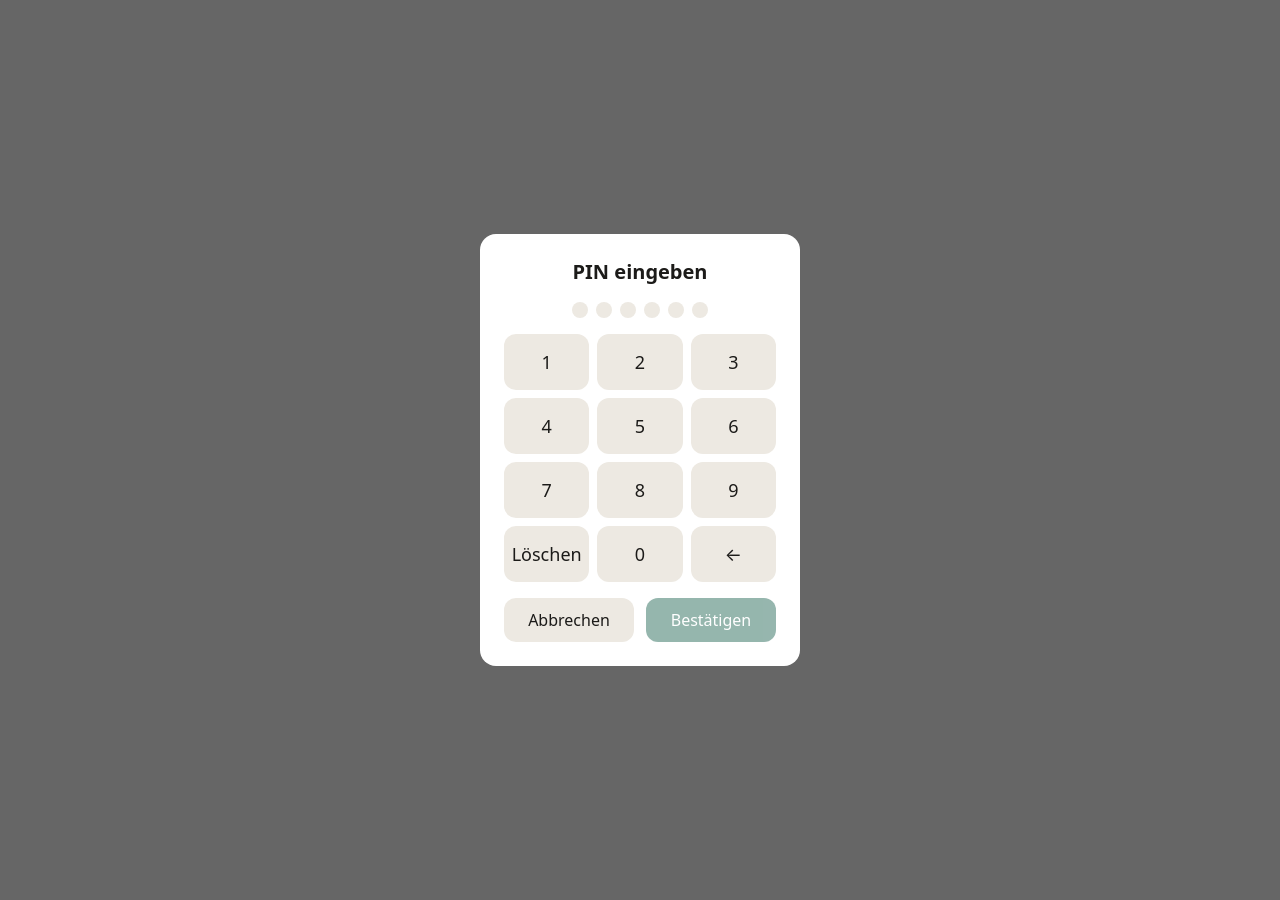
Test: PinInputDialog › clear empties the entry
This screenshot has width=1280, height=900.
Click the button "1" at (547, 362), box [504, 334, 589, 390]
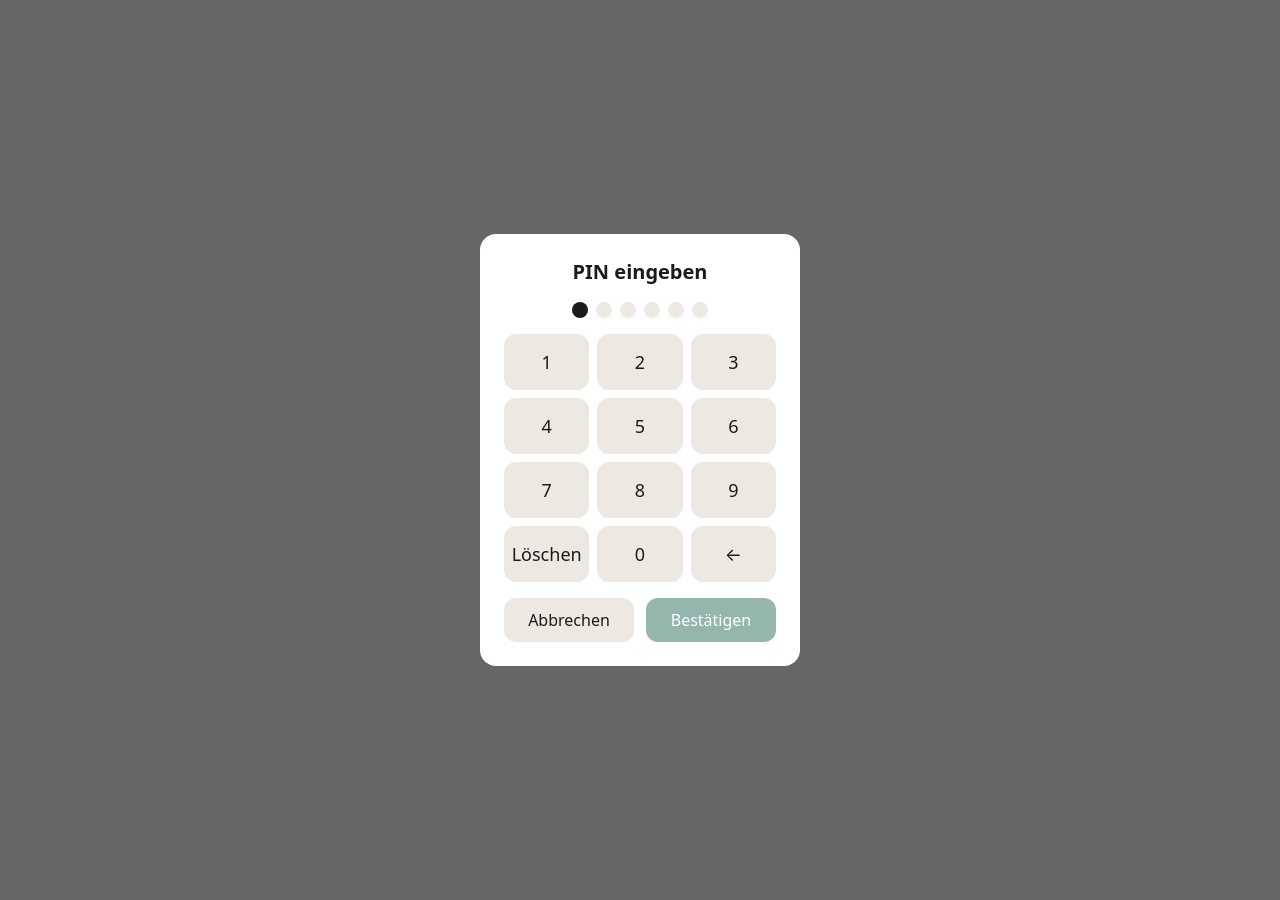
Click the button "2" at (640, 362), box [597, 334, 683, 390]
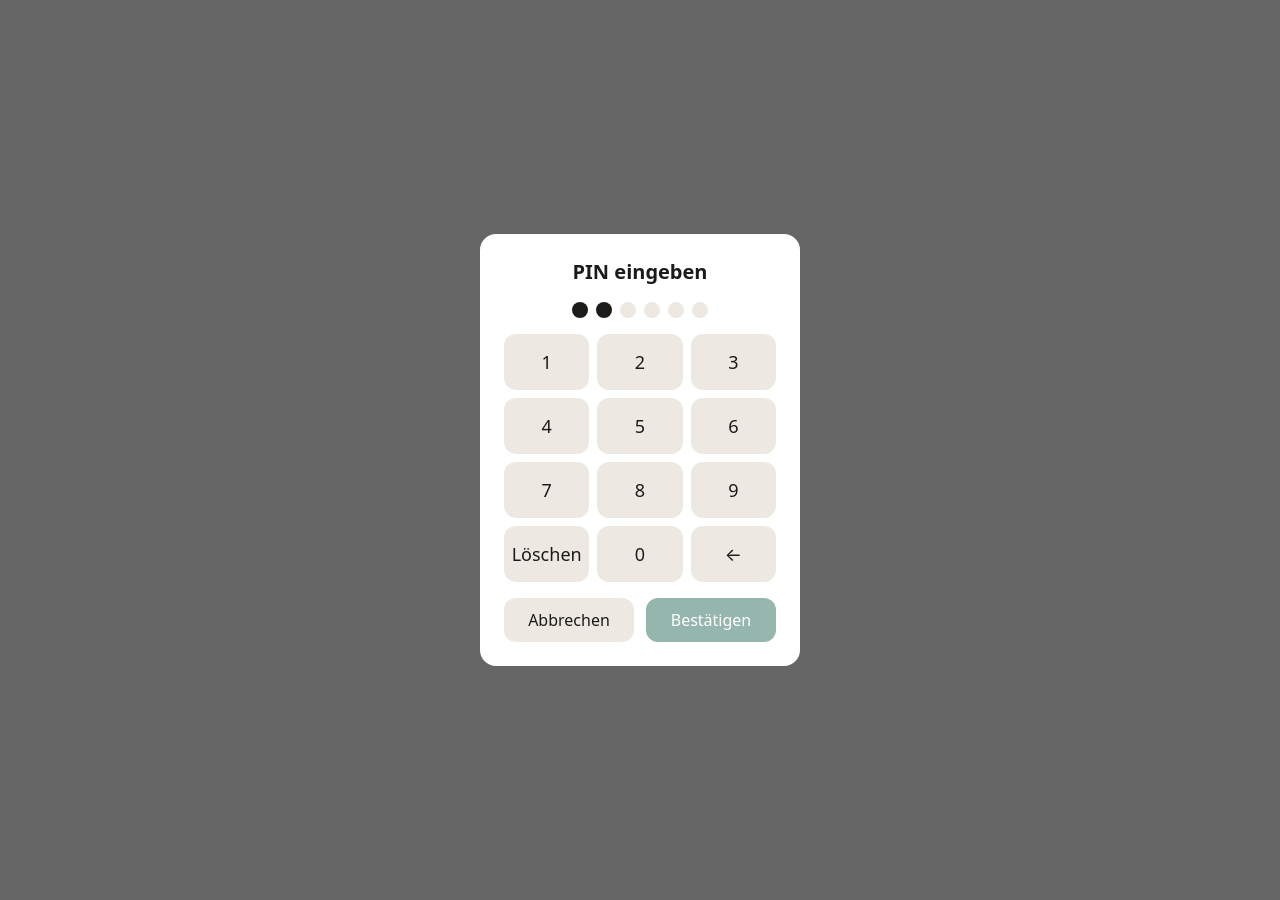
Click the button "3" at (733, 362), box [691, 334, 776, 390]
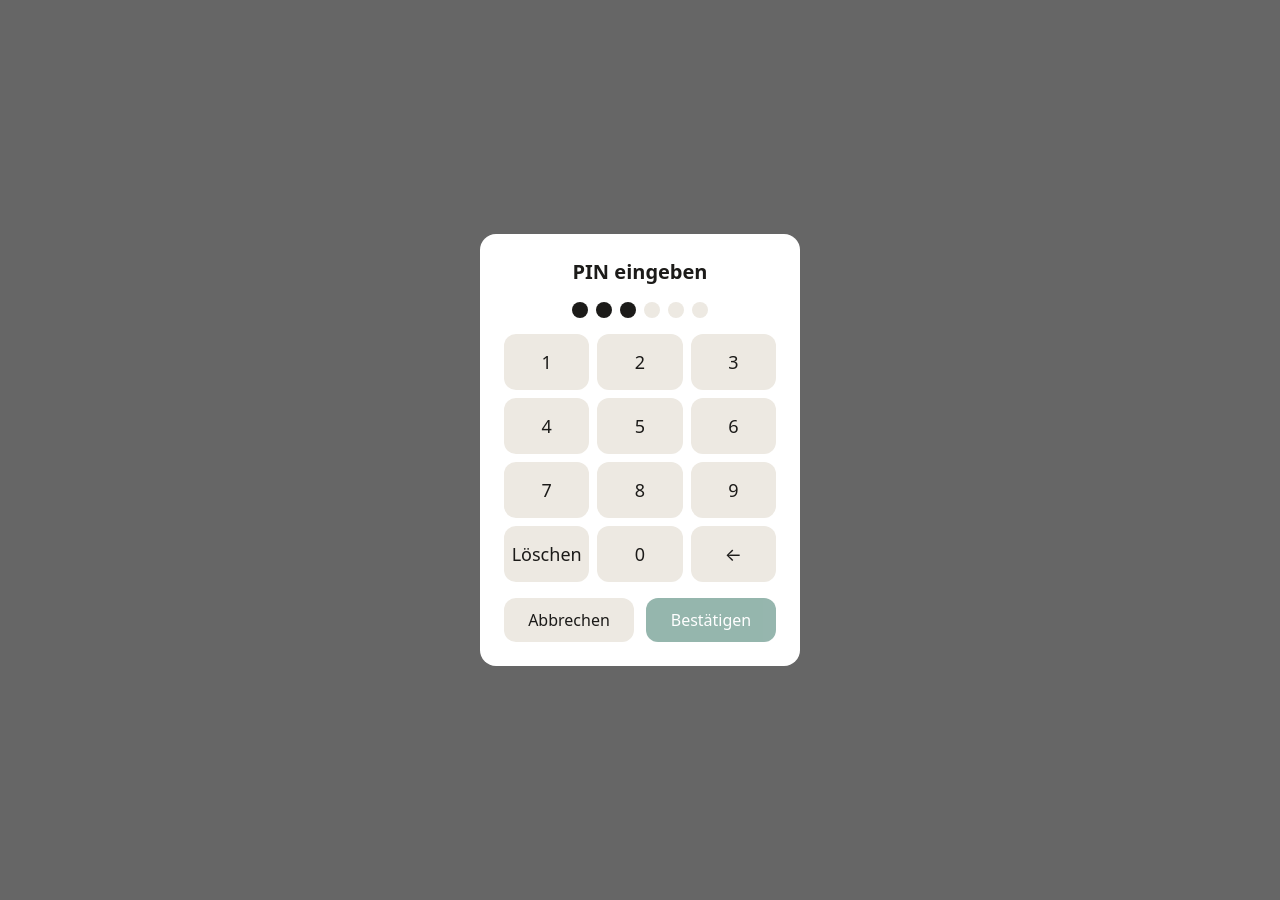
Click the button "4" at (547, 426), box [504, 398, 589, 454]
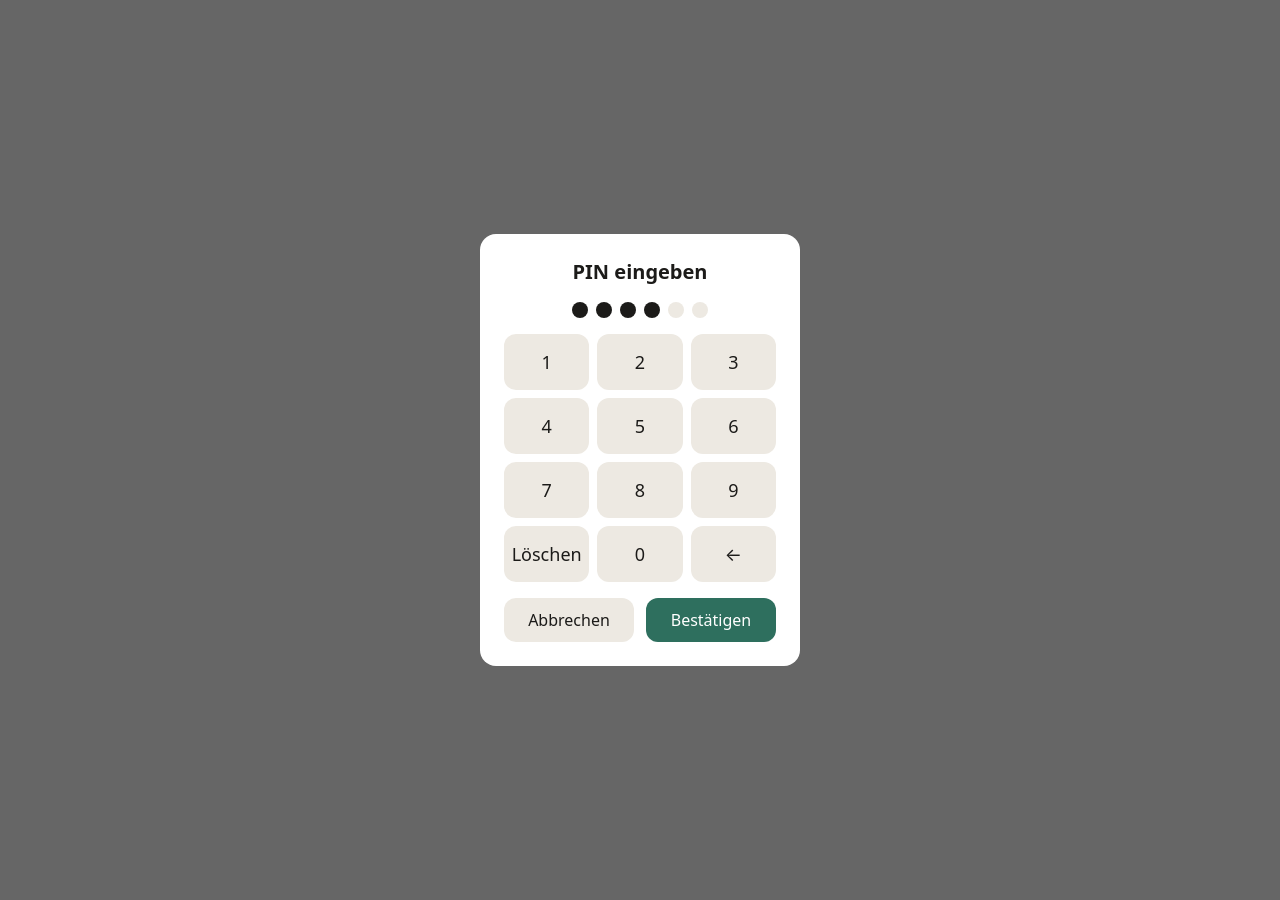
Click the button "Löschen" at (547, 554), box [504, 526, 589, 582]
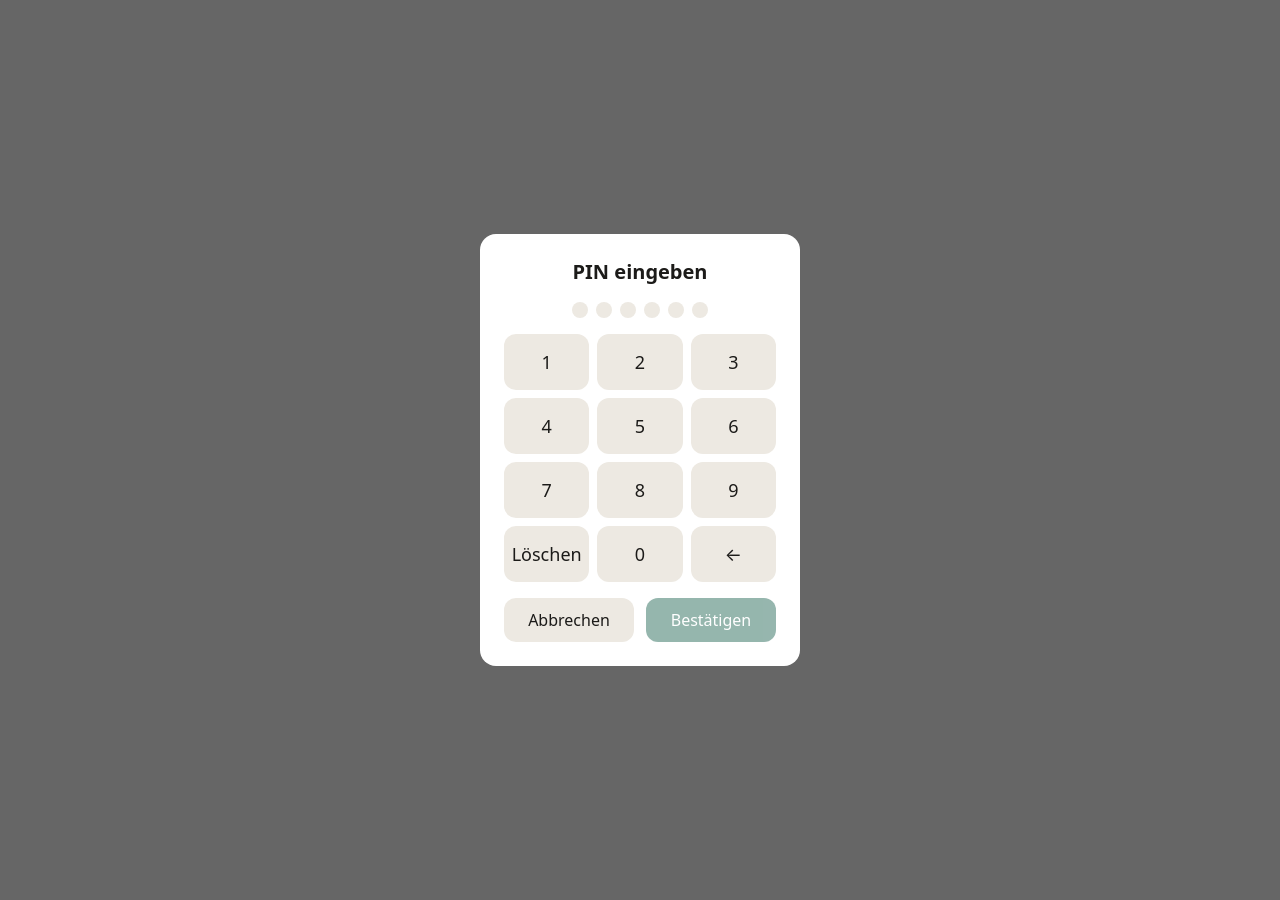
Expected: the button "Bestätigen" is disabled, [646, 598, 776, 642]
